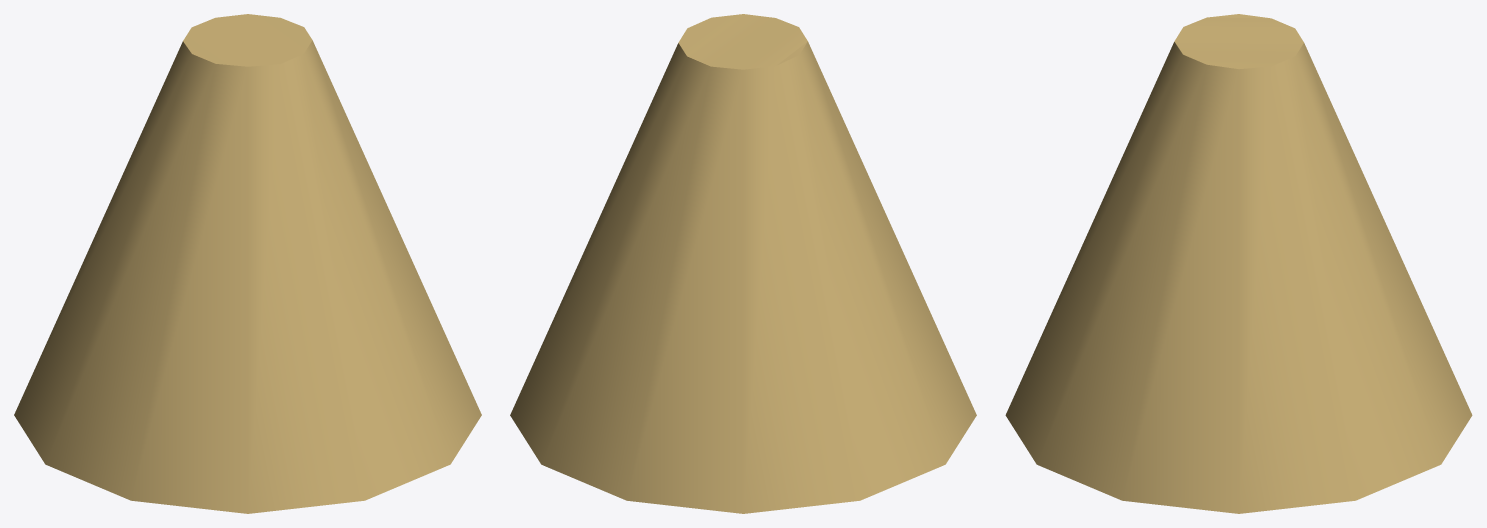
Rendered from CastleConeBaseGold_2.glb.
3 views of the same model, side by side, from view 1: azimuth 30°, elevation 25°; view 2: azimuth 150°, elevation 25°; view 3: azimuth 270°, elevation 25° (orthographic).
Visible parts, largest first — view 1: CastleConeBaseGold; view 2: CastleConeBaseGold; view 3: CastleConeBaseGold.
Boxes of the visible parts, x1=… form: CastleConeBaseGold: x1=14, y1=14, x2=481, y2=513; CastleConeBaseGold: x1=510, y1=14, x2=976, y2=513; CastleConeBaseGold: x1=1005, y1=14, x2=1472, y2=513.
Size of the model in its own units: 1.31 by 1.16 by 1.31.
